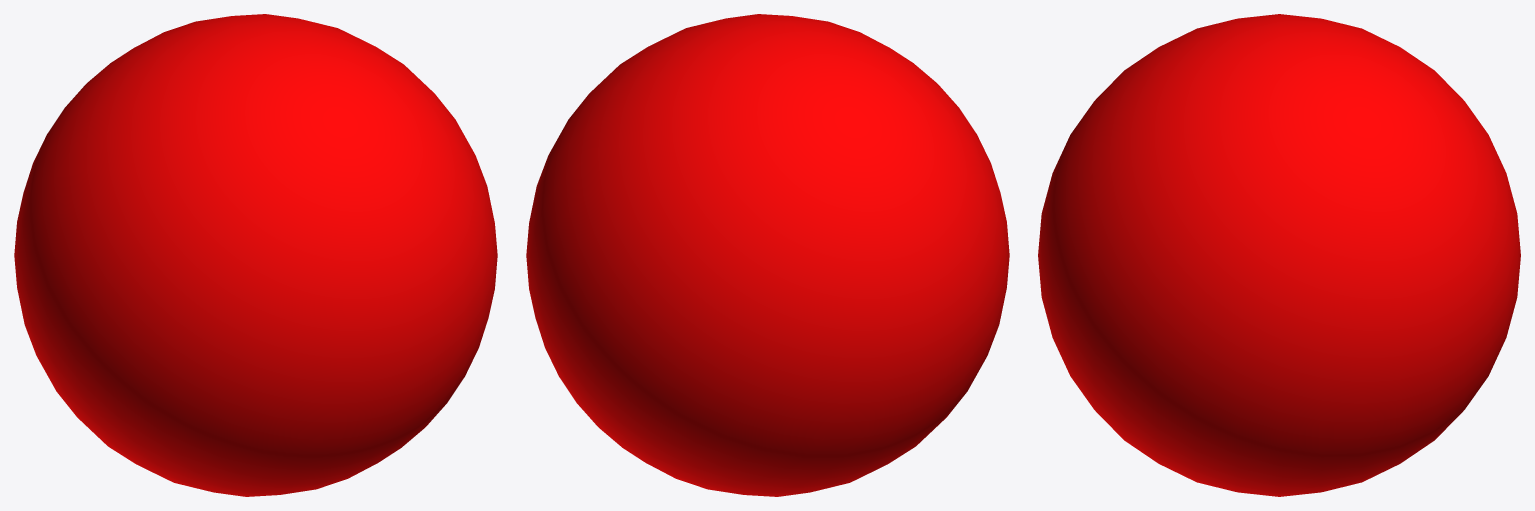
The picture shows the model from 3 angles, left to right: view 1: azimuth 30°, elevation 25°; view 2: azimuth 150°, elevation 25°; view 3: azimuth 270°, elevation 25°; orthographic projection.
Parts seen in each view (by area): view 1: Speech Bubble; view 2: Speech Bubble; view 3: Speech Bubble.
Boxes of the visible parts, x1,y1,x2,y2 form: Speech Bubble: (14,14,497,496); Speech Bubble: (526,14,1009,496); Speech Bubble: (1038,14,1520,496).
Bounding box in the file's own units: 0.1775 × 0.1771 × 0.1778.
